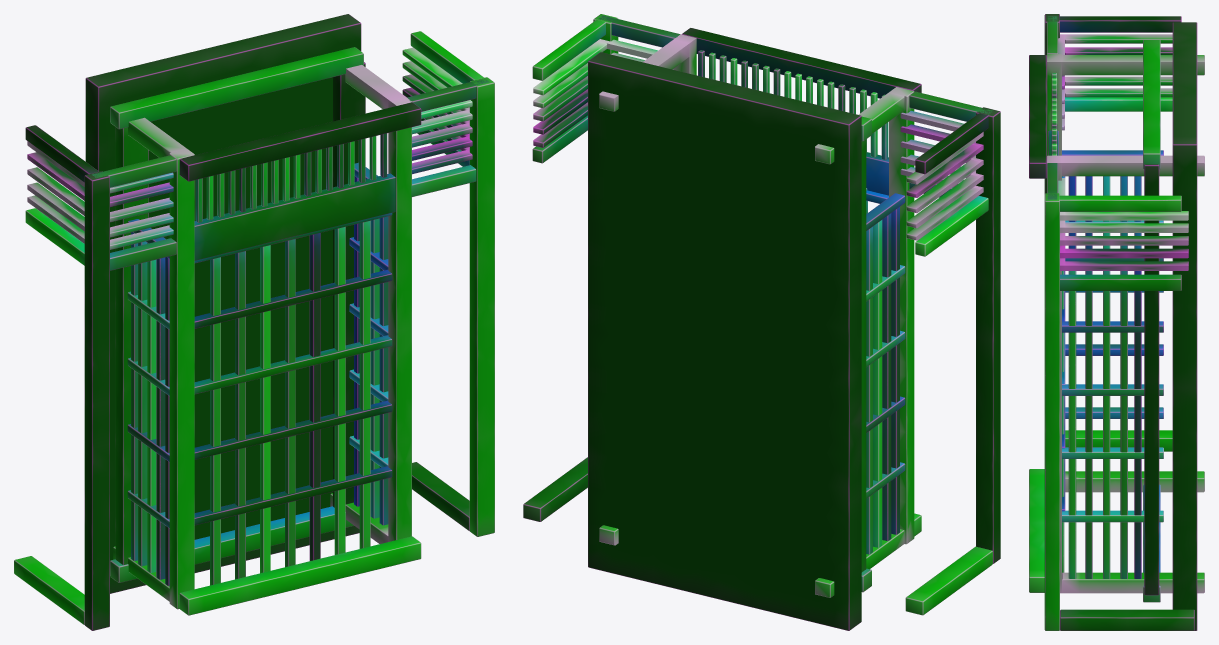
Rendered from door_400x300_05.fbx.
3 views of the same model, side by side, from view 1: azimuth 30°, elevation 25°; view 2: azimuth 150°, elevation 25°; view 3: azimuth 270°, elevation 25° (orthographic). The views are drawn at different scales.
Parts seen in each view (by area): view 1: door_400x300_05; view 2: door_400x300_05; view 3: door_400x300_05.
Part boxes in pixels (x1,y1,x2,y2): door_400x300_05: [14, 14, 494, 630]; door_400x300_05: [523, 14, 1000, 630]; door_400x300_05: [1029, 14, 1204, 630].
Size of the model in its own units: 2.02 by 2.45 by 0.8021.
